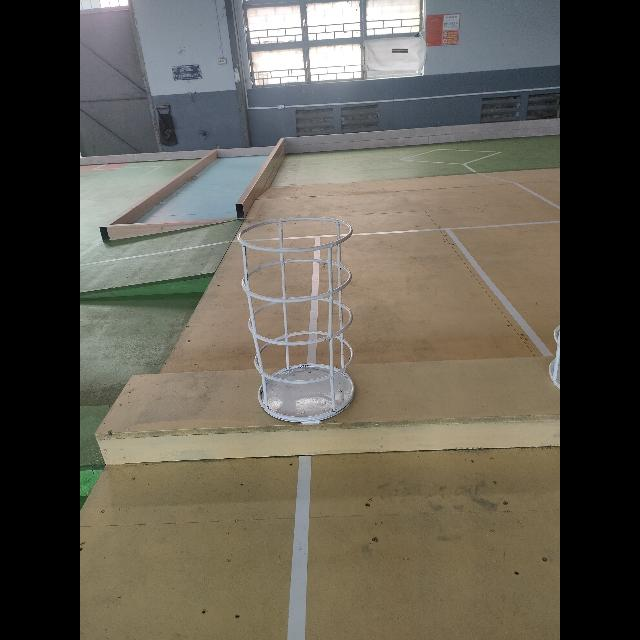S: (236, 214, 358, 425)
